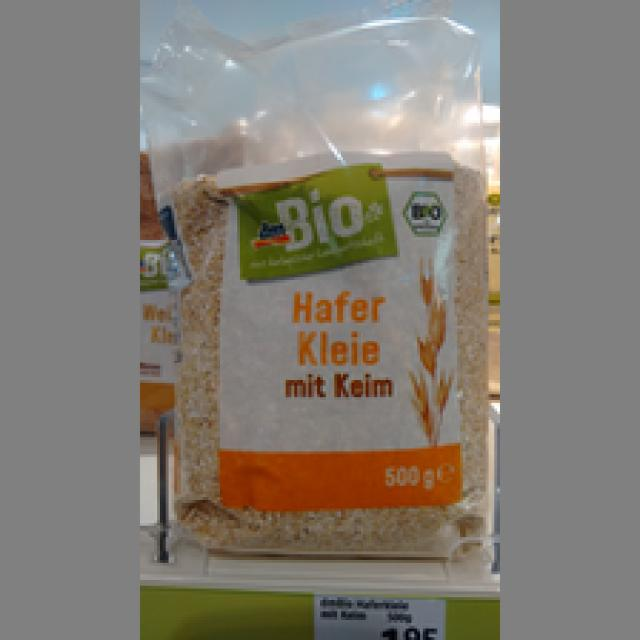groceries: (154, 134, 489, 552)
